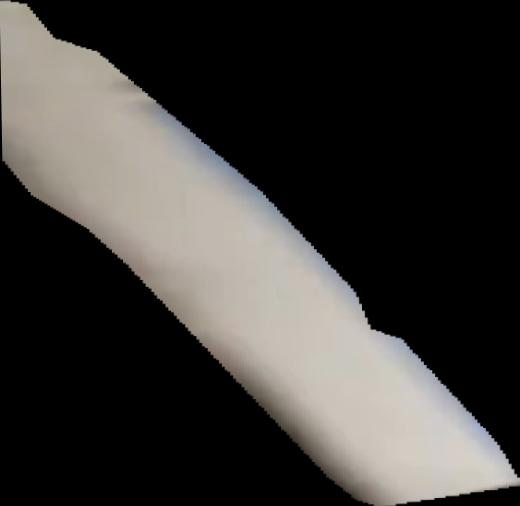backward: (1, 1, 520, 506)
